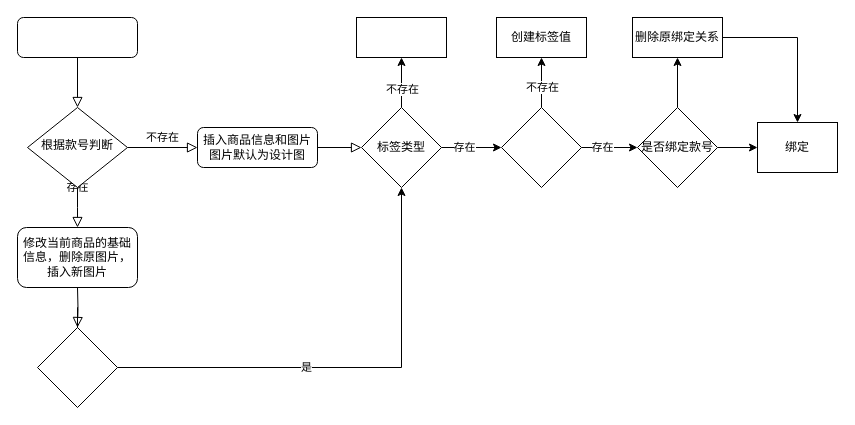
This 855x425 diagram has some shape labels left out. The shapes that lost their labels are listed below. From the top down, each one's centre as x and y in pixels, then its label:
the point at 77,37: scm同步商品
the point at 401,37: 创建标签类型
the point at 541,147: 标签值
the point at 77,367: 标签属性是否有变动
